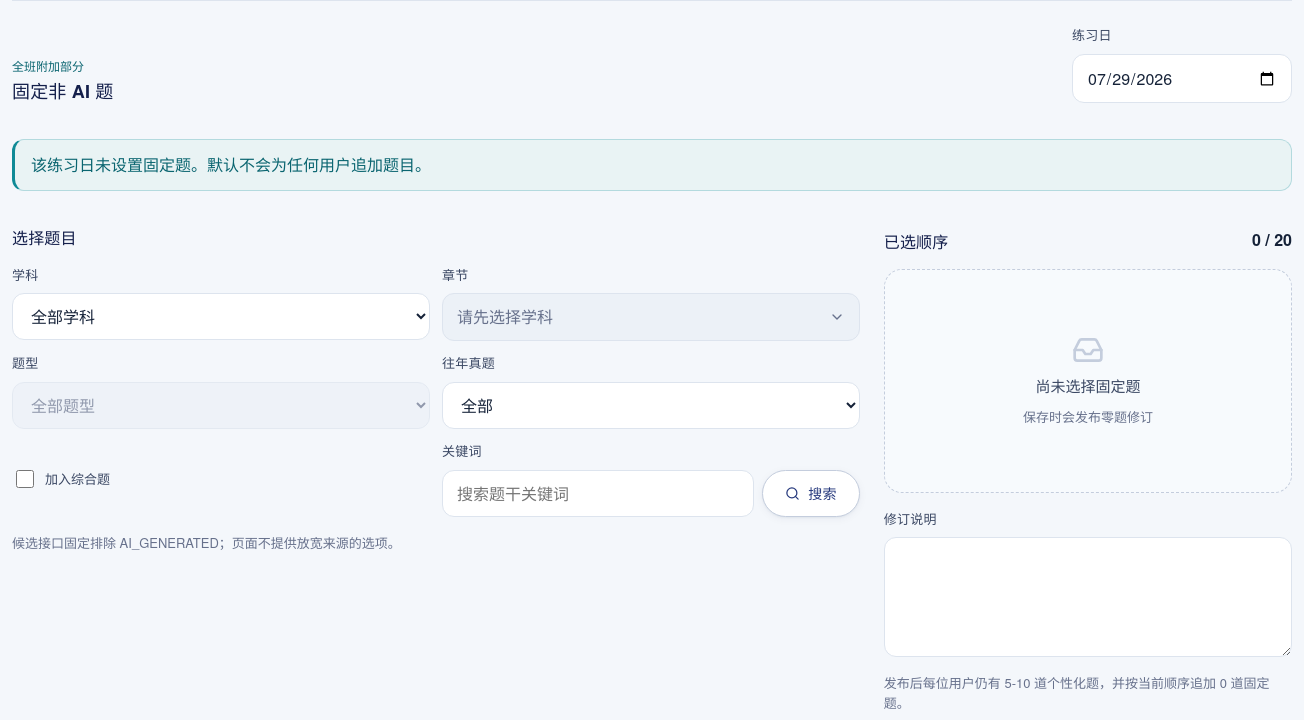
AdminDailyFixedQuestions › ignores an assignment response that belongs to a previously selected date
This screenshot has width=1304, height=720.
Type "2026-07-30" into the date field with id "fixed-practice-date" at (1182, 79), box top-left (1072, 54), bottom-right (1292, 103)
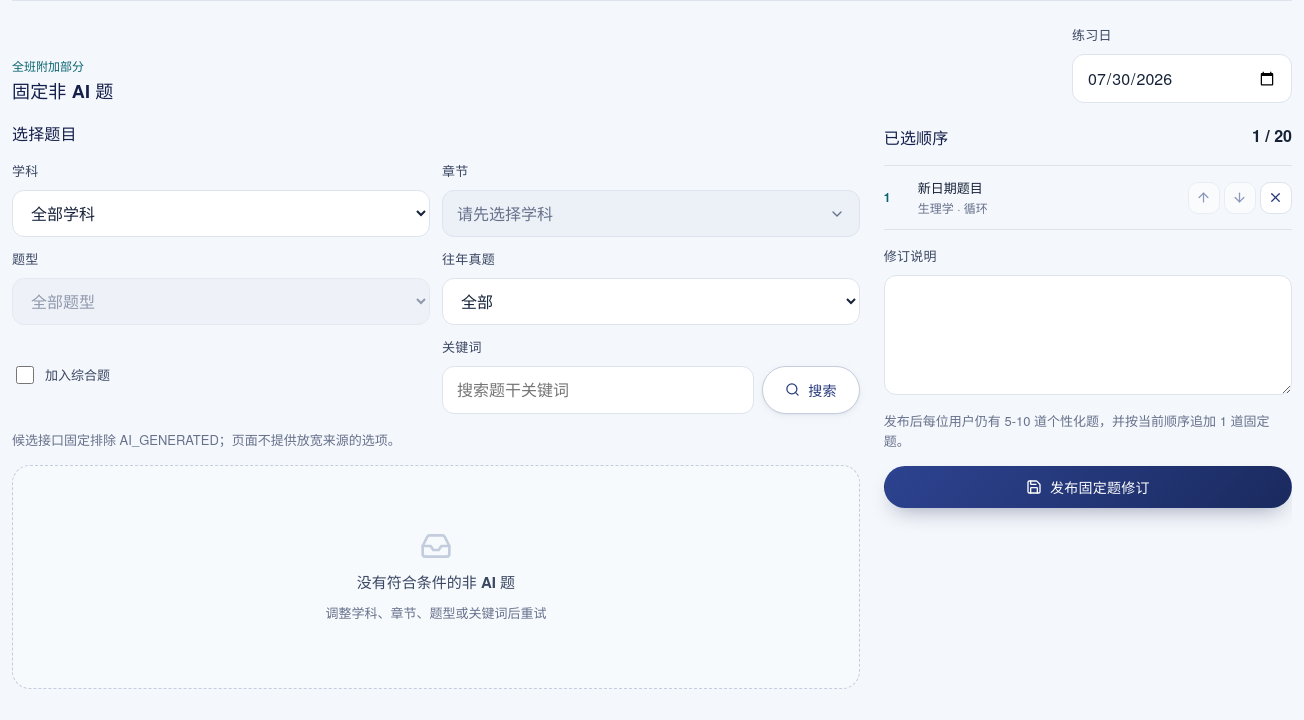
Now the text "新日期题目" is shown, box top-left (918, 178), bottom-right (983, 197)
